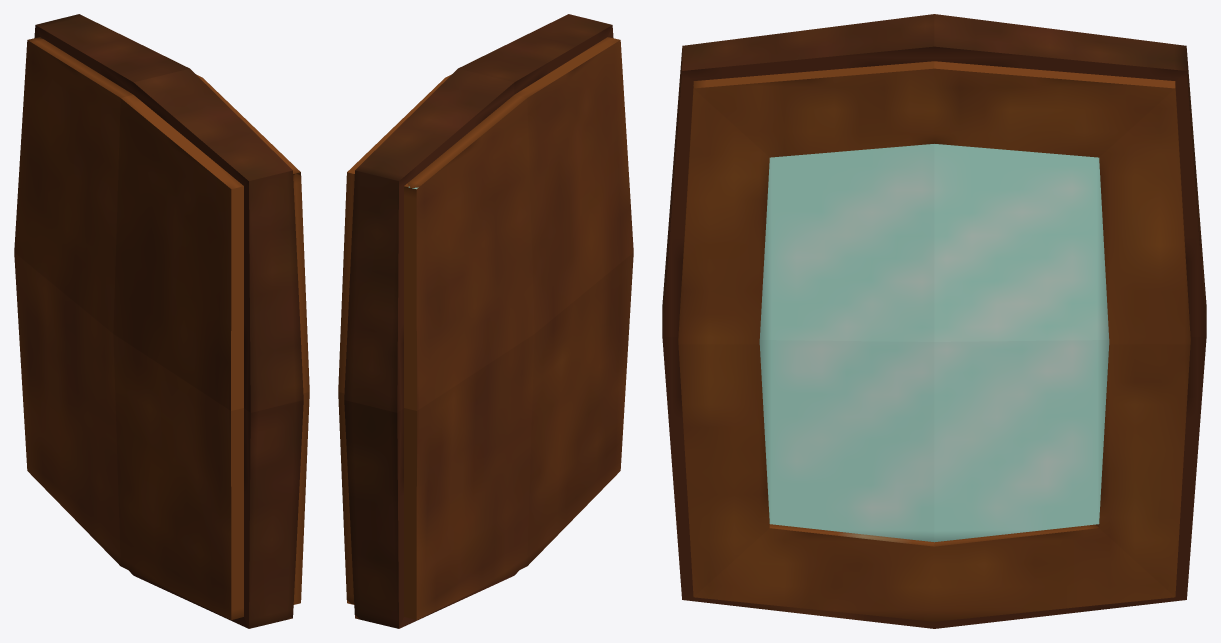
File: EspelhoCamarim.fbx
3 views of the same model, side by side, from view 1: azimuth 30°, elevation 25°; view 2: azimuth 150°, elevation 25°; view 3: azimuth 270°, elevation 25° (orthographic). The views are drawn at different scales.
Parts seen in each view (by area): view 1: Cube.163; view 2: Cube.163; view 3: Cube.163.
Boxes of the visible parts, <box> form: Cube.163: <box>14,14,309,628</box>; Cube.163: <box>338,14,633,628</box>; Cube.163: <box>662,14,1206,628</box>.
Bounding box in the file's own units: 30.47 × 160 × 136.
2 materials, 2 textured.
